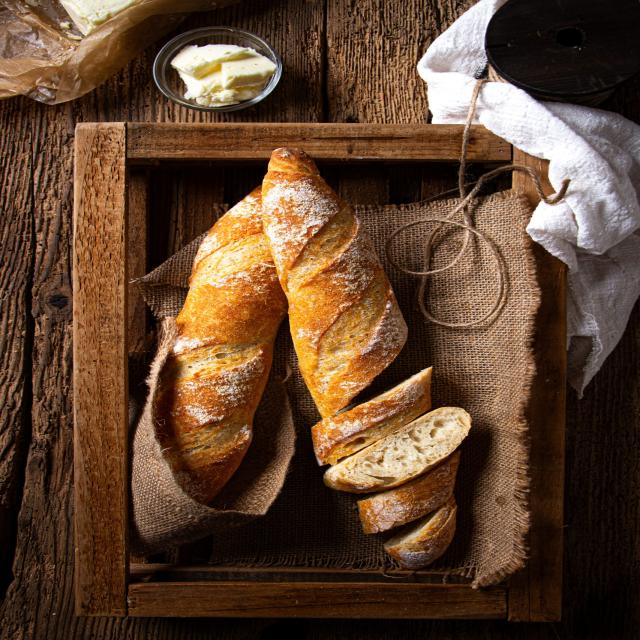Baguette: (258, 149, 406, 419), (153, 210, 287, 502)
